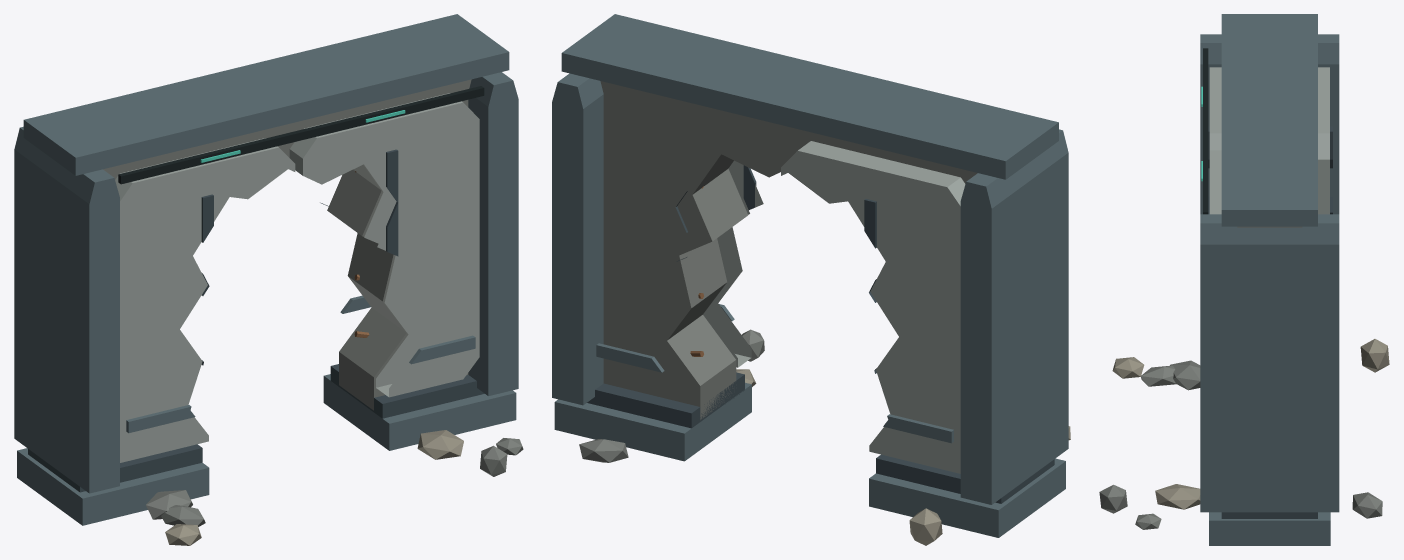
The model's file is wall_standard_d2.glb.
The picture shows the model from 3 angles, left to right: view 1: azimuth 30°, elevation 25°; view 2: azimuth 150°, elevation 25°; view 3: azimuth 270°, elevation 25°; orthographic projection. The views are drawn at different scales.
Parts seen in each view (by area): view 1: GAME_MESH_STATIC.002; view 2: GAME_MESH_STATIC.002; view 3: GAME_MESH_STATIC.002.
Part boxes in pixels (<box>): GAME_MESH_STATIC.002: <box>14,14,523,545</box>; GAME_MESH_STATIC.002: <box>552,14,1070,545</box>; GAME_MESH_STATIC.002: <box>1099,14,1389,545</box>.
Size of the model in its own units: 4 by 3.21 by 2.5.
